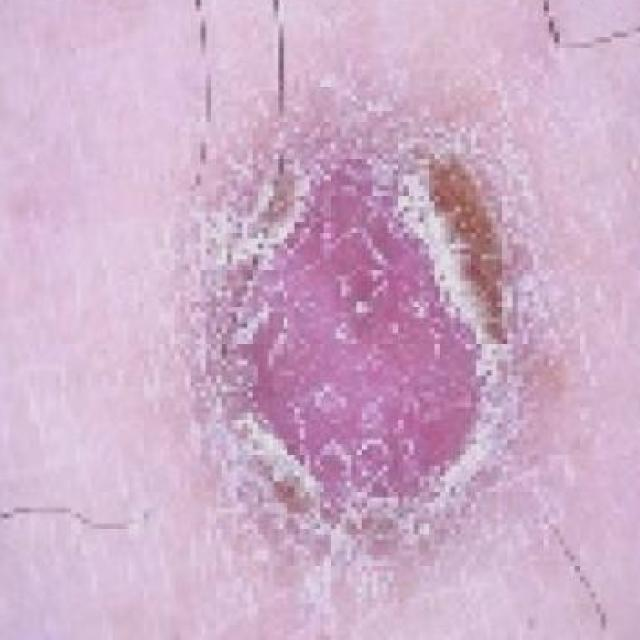DF: (136, 79, 616, 640)
